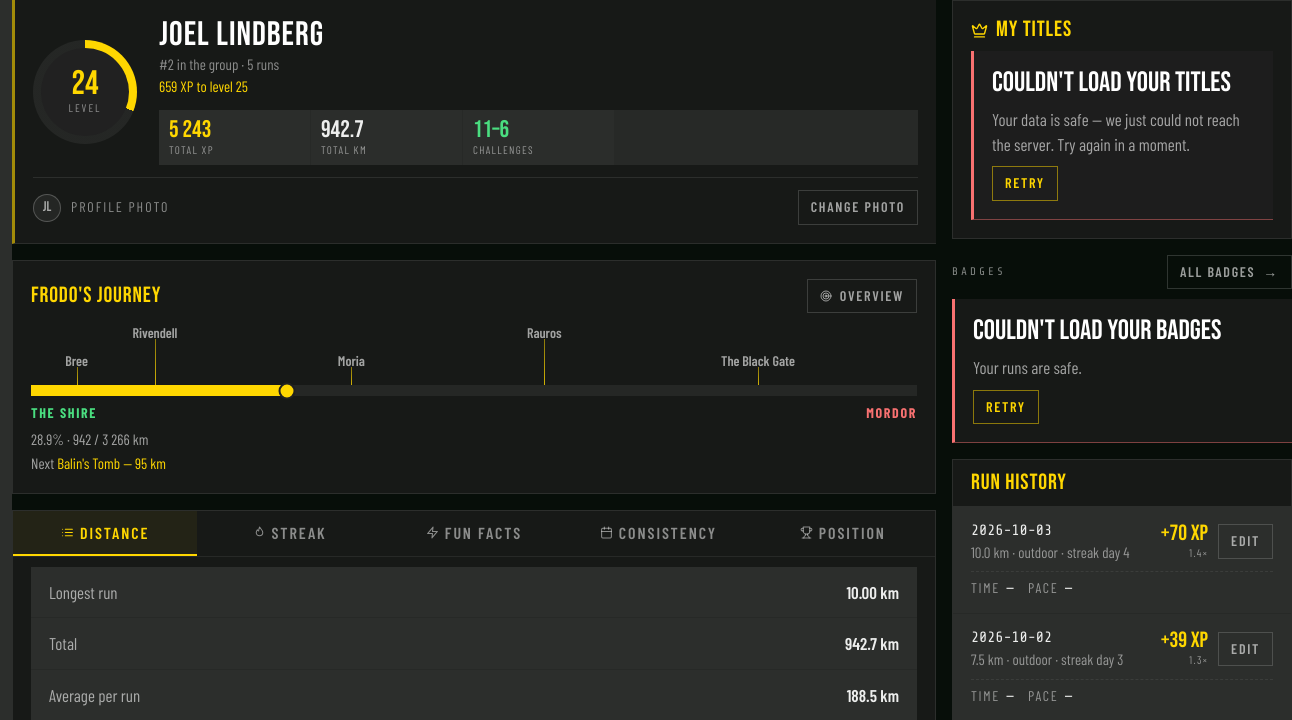
it: Profile — titlar › fel: felkort med Retry — inte "No titles" — och Retry hämtar om
Click the button "Retry" below "Couldn't load your titles" at (1025, 183), box top-left (992, 166), bottom-right (1058, 201)
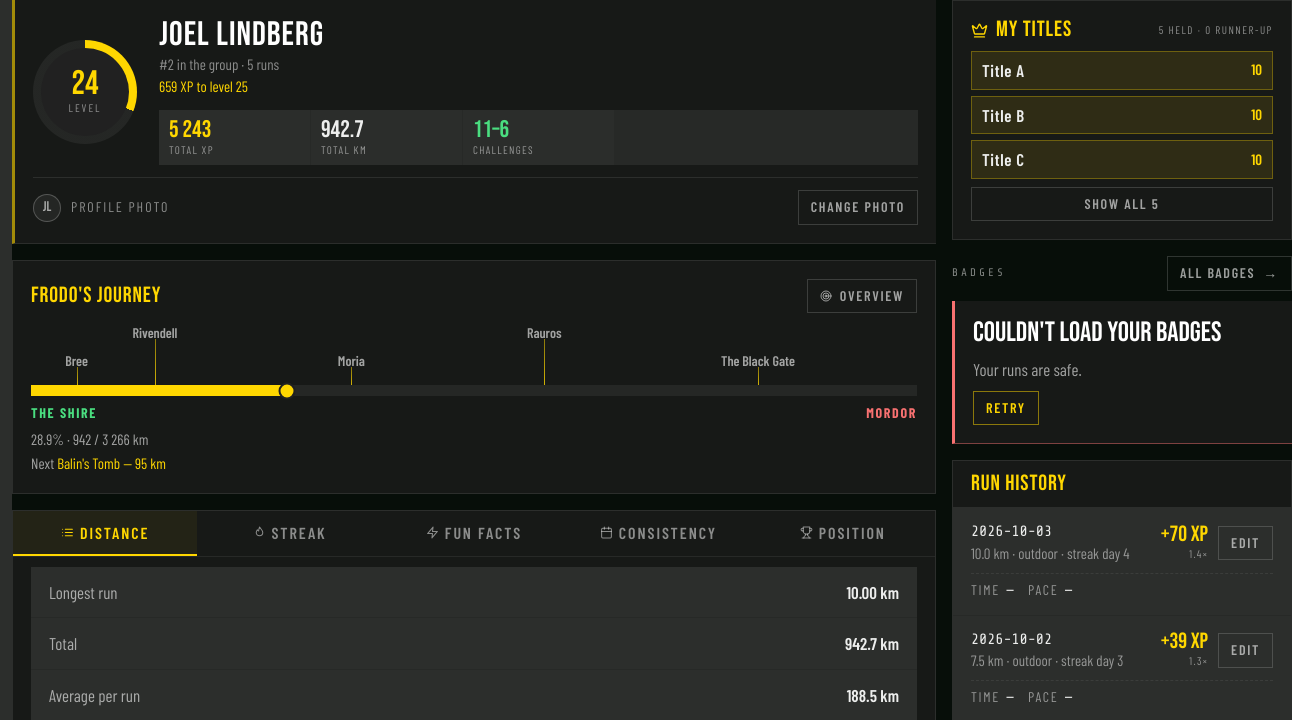
expect the text "5 held · 0 runner-up" is shown: met, box top-left (1159, 22), bottom-right (1273, 38)
